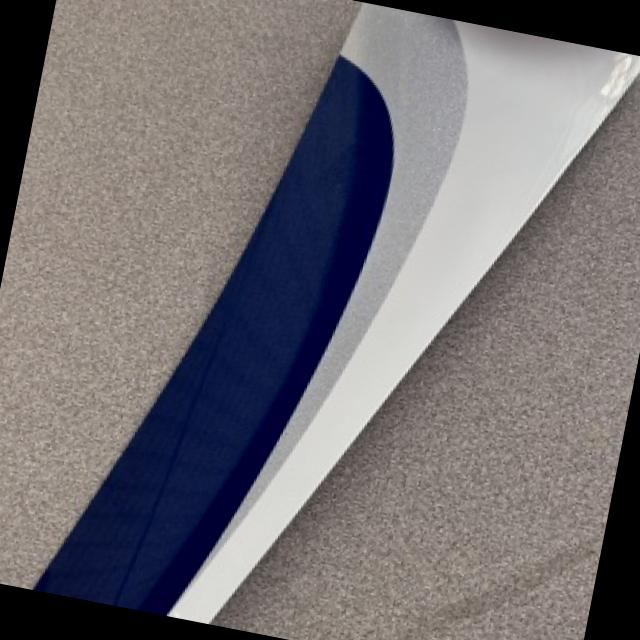healthy: (33, 2, 640, 622), (171, 21, 611, 621)
